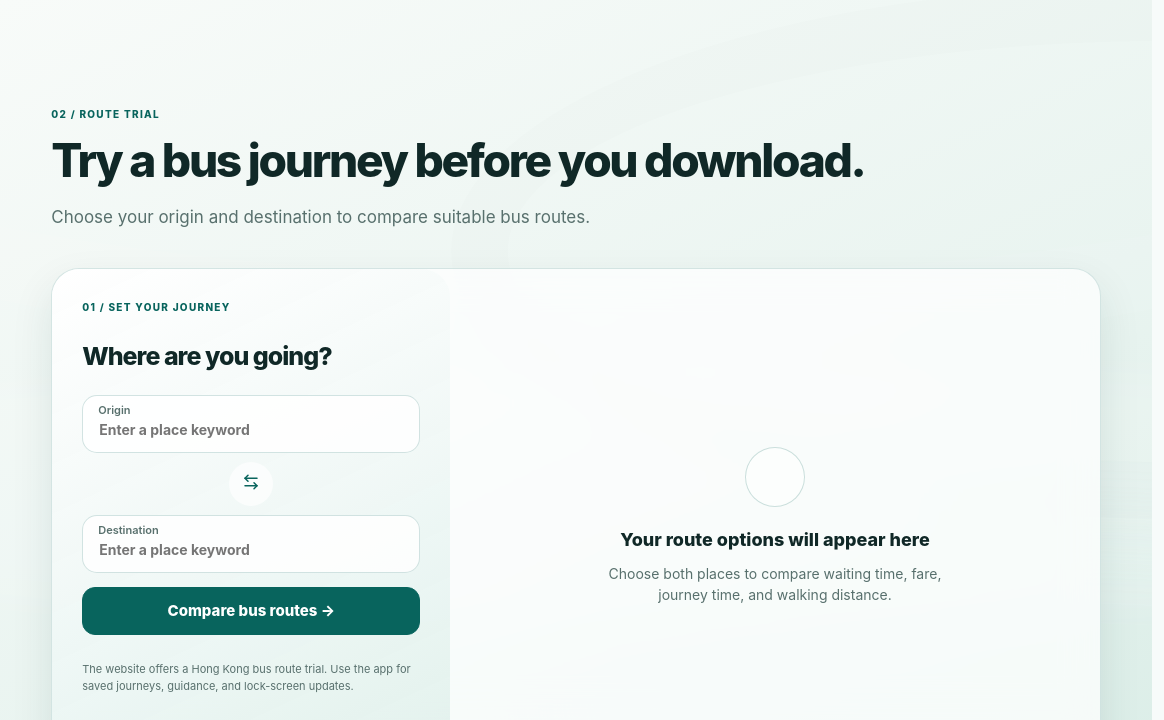
OnlineQueryDemoSection › selects places, submits route tokens, renders route cards, and merges ETA
The width and height of the screenshot is (1164, 720).
Step 1. Type "origin" into the dropdown labelled "Origin" → (251, 424), box [82,395,420,453]
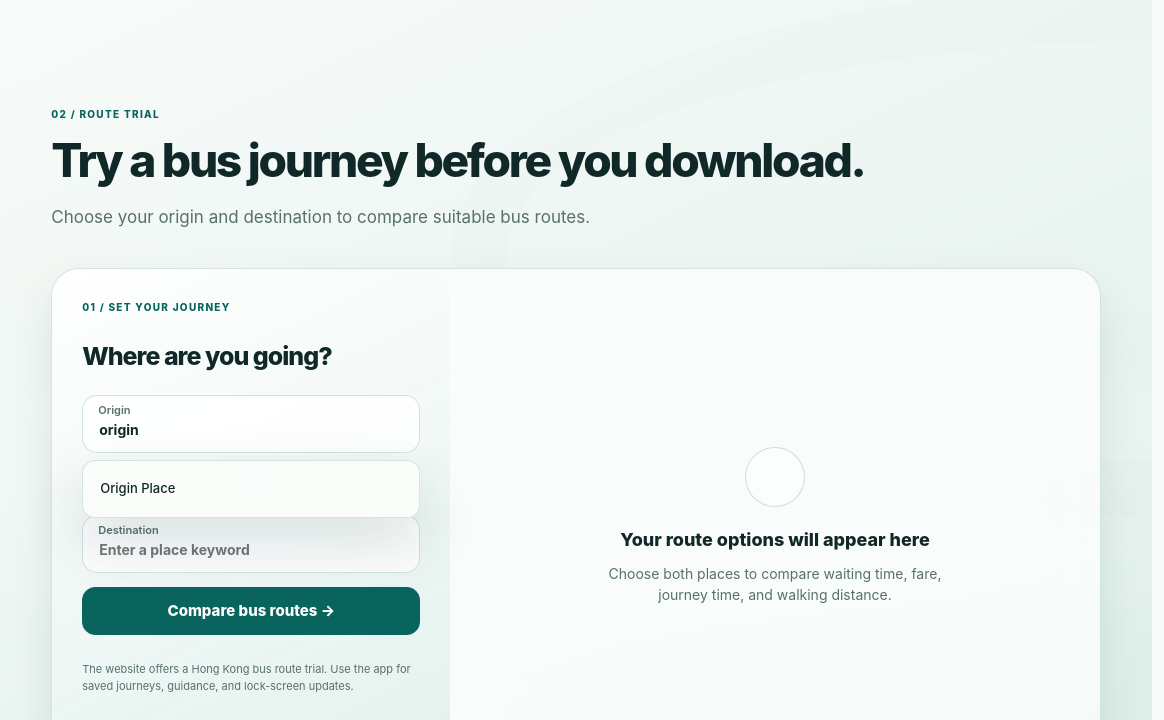
Step 2. Click the option "Origin Place" → (138, 488), box [89,467,413,511]
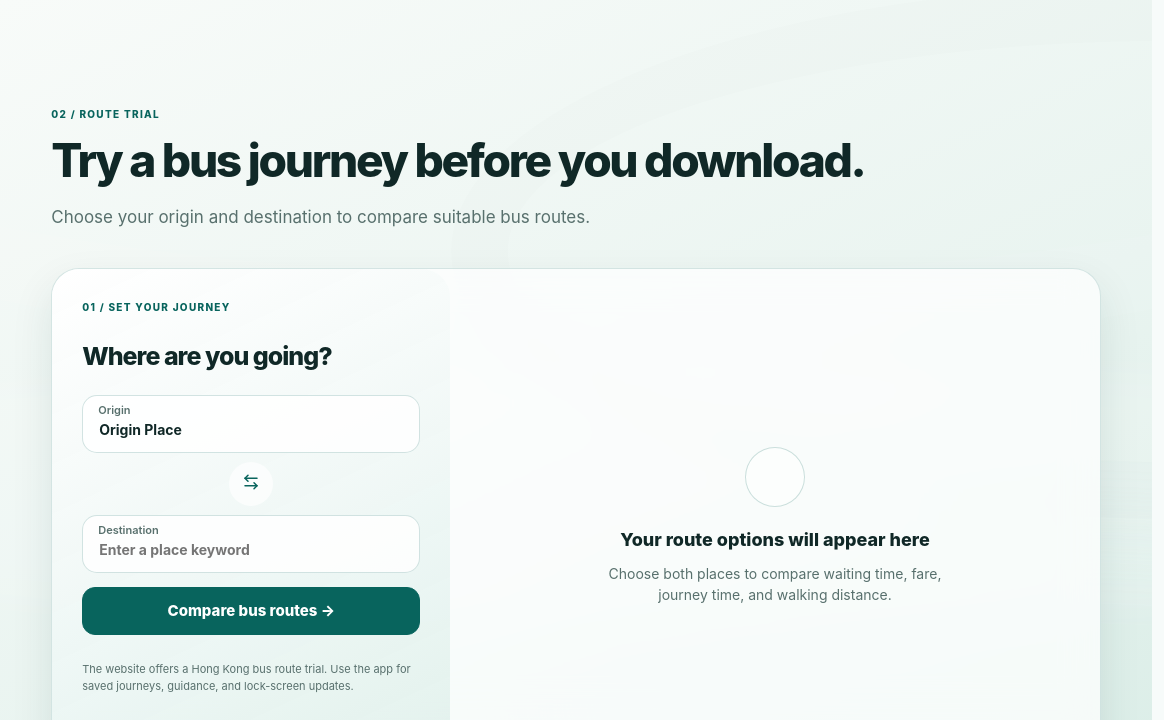
Step 3. Type "destination" into the dropdown labelled "Destination" → (251, 544), box [82,515,420,573]
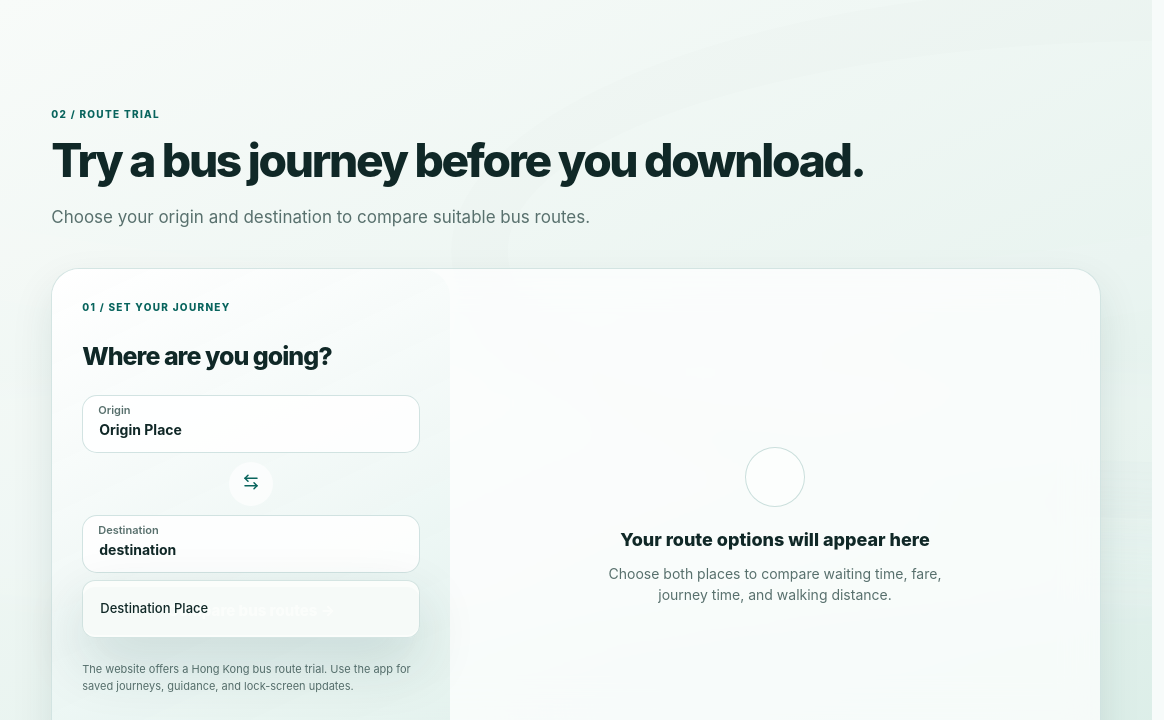
Step 4. Click the option "Destination Place" → (154, 608), box [89,587,413,631]
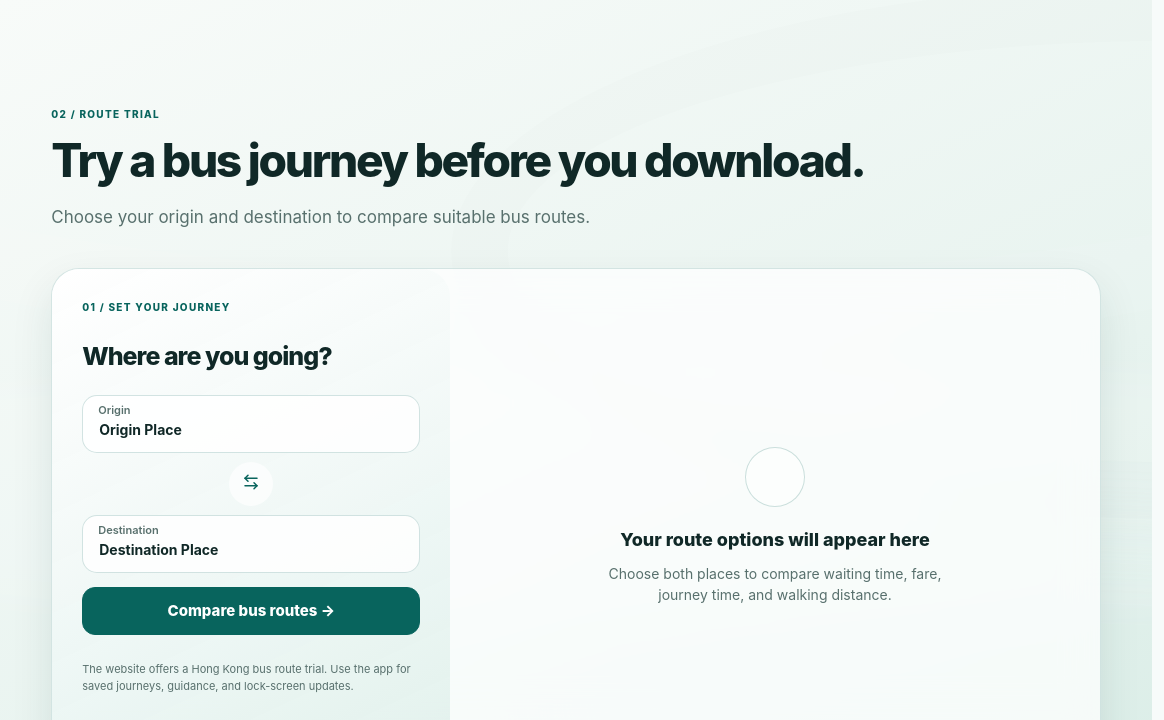
Step 5. Click the button "Compare bus routes →" → (251, 611), box [82,587,420,635]
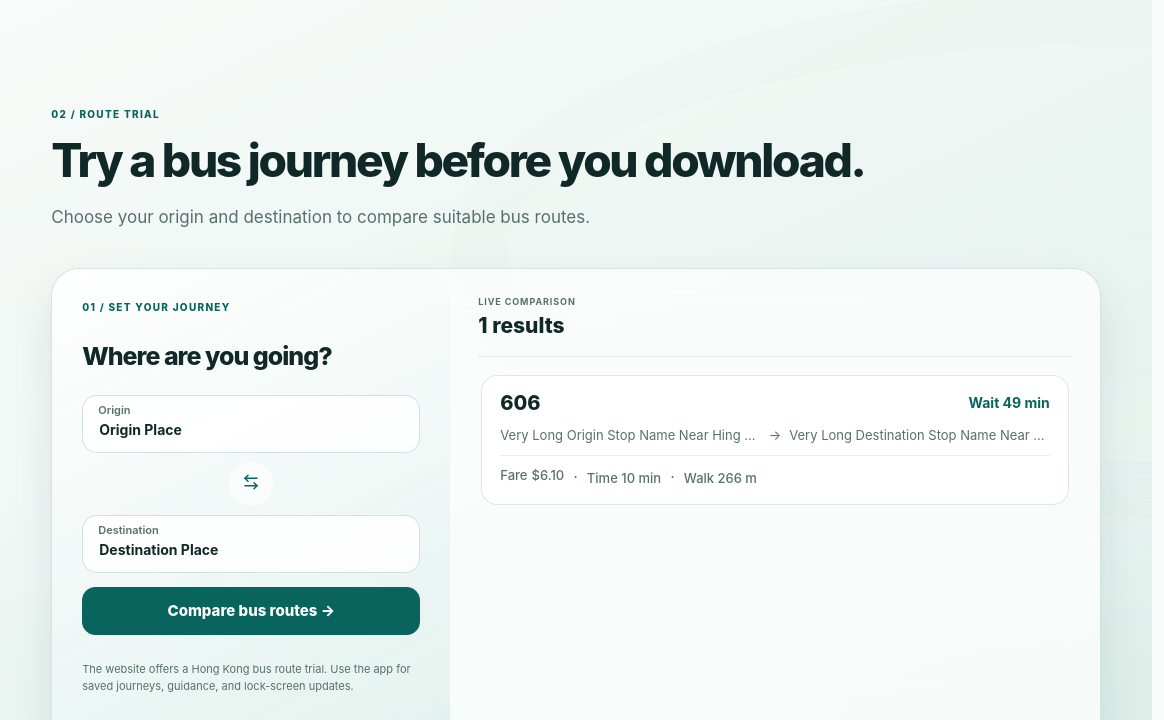
Expected: the text "606" is shown, [500,392,541,415]
Expected: the text "Very Long Origin Stop Name Near Hing Wah Estate Bus Terminus" is shown, [500,426,761,444]
Expected: the text "Very Long Destination Stop Name Near Yue Wan Estate Shopping Centre" is shown, [789,426,1050,444]
